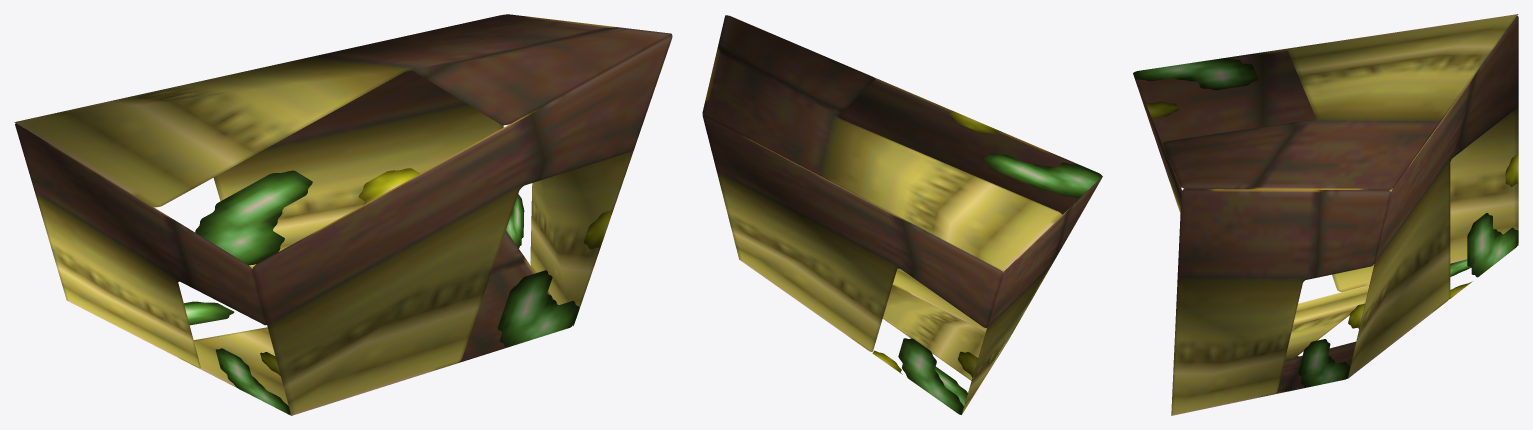
The picture shows the model from 3 angles, left to right: view 1: azimuth 30°, elevation 25°; view 2: azimuth 150°, elevation 25°; view 3: azimuth 270°, elevation 25°; orthographic projection. The views are drawn at different scales.
Visible parts, largest first — view 1: T1L4M003_26; view 2: T1L4M003_26; view 3: T1L4M003_26.
Boxes of the visible parts, left/top/right/bottom form: T1L4M003_26: left=14, top=14, right=672, bottom=415; T1L4M003_26: left=702, top=15, right=1102, bottom=414; T1L4M003_26: left=1133, top=14, right=1518, bottom=415.
Size of the model in its own units: 0.2334 by 0.1357 by 0.1455.
